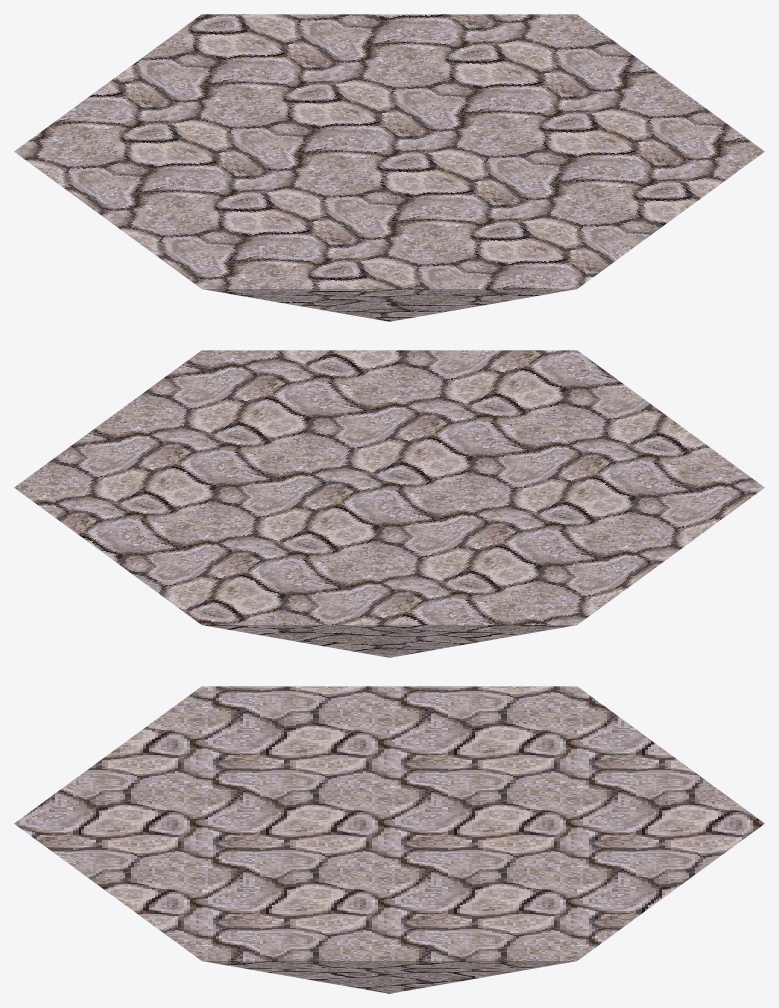
3 renders of one model, top to bottom at view 1: azimuth 30°, elevation 25°; view 2: azimuth 150°, elevation 25°; view 3: azimuth 270°, elevation 25°, orthographic.
Visible parts, largest first — view 1: wc_obj07; view 2: wc_obj07; view 3: wc_obj07.
Boxes of the visible parts, left/top/right/bottom form: wc_obj07: left=14, top=14, right=764, bottom=321; wc_obj07: left=14, top=350, right=764, bottom=657; wc_obj07: left=14, top=686, right=764, bottom=993.
Bounding box in the file's own units: 54.13 × 15.62 × 62.5.
1 material, 1 textured.
